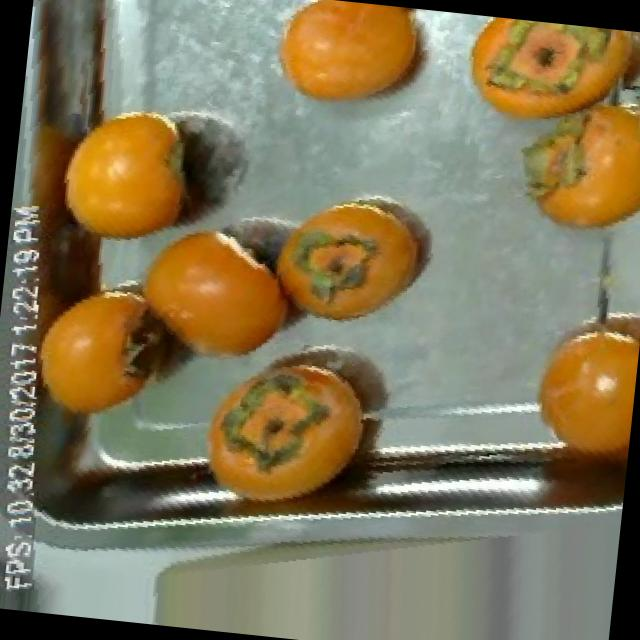Fruit: (106, 199, 333, 386), (4, 256, 222, 446), (247, 178, 456, 348), (35, 81, 216, 265), (253, 0, 452, 127), (505, 74, 640, 254)
